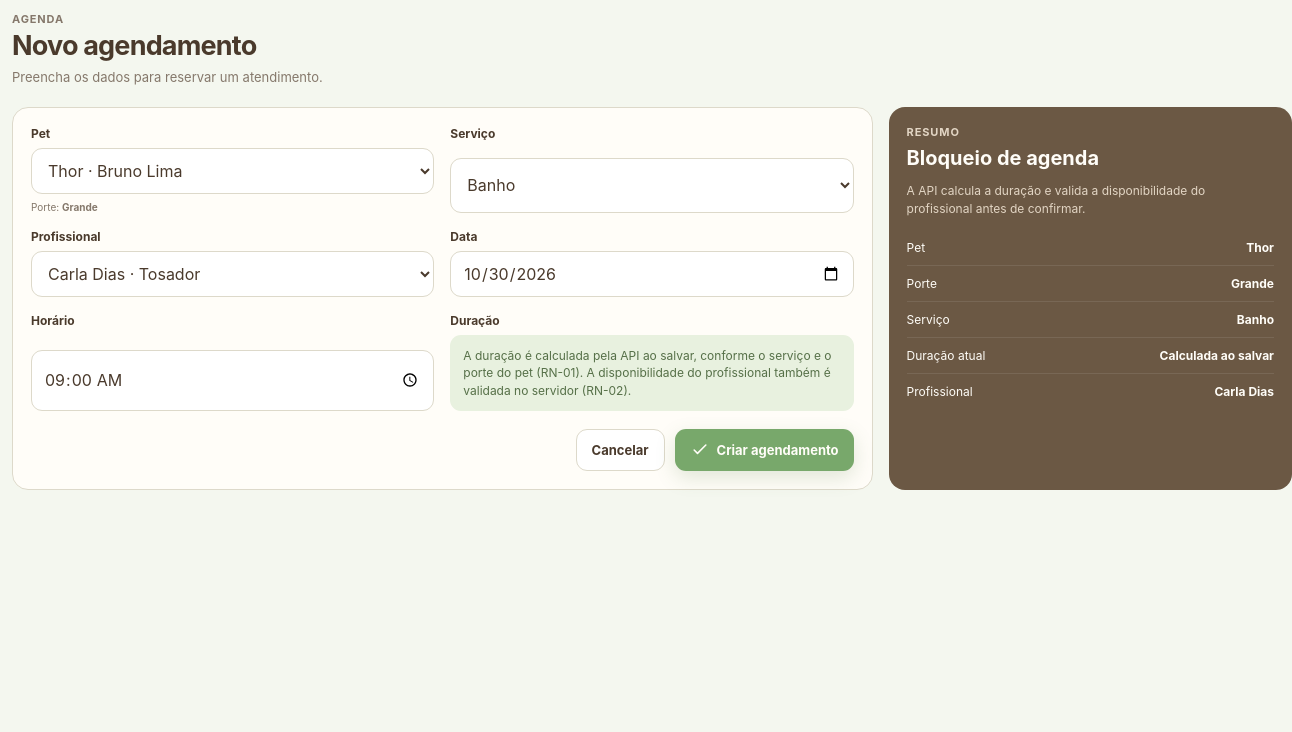
Test: UI | NovoAgendamentoForm — Duração (RN-01 no backend) › deve exibir a duração devolvida pela API após criar o agendamento
The width and height of the screenshot is (1292, 732).
Click the button "Criar agendamento" at [764, 450], box [674,429,854,471]
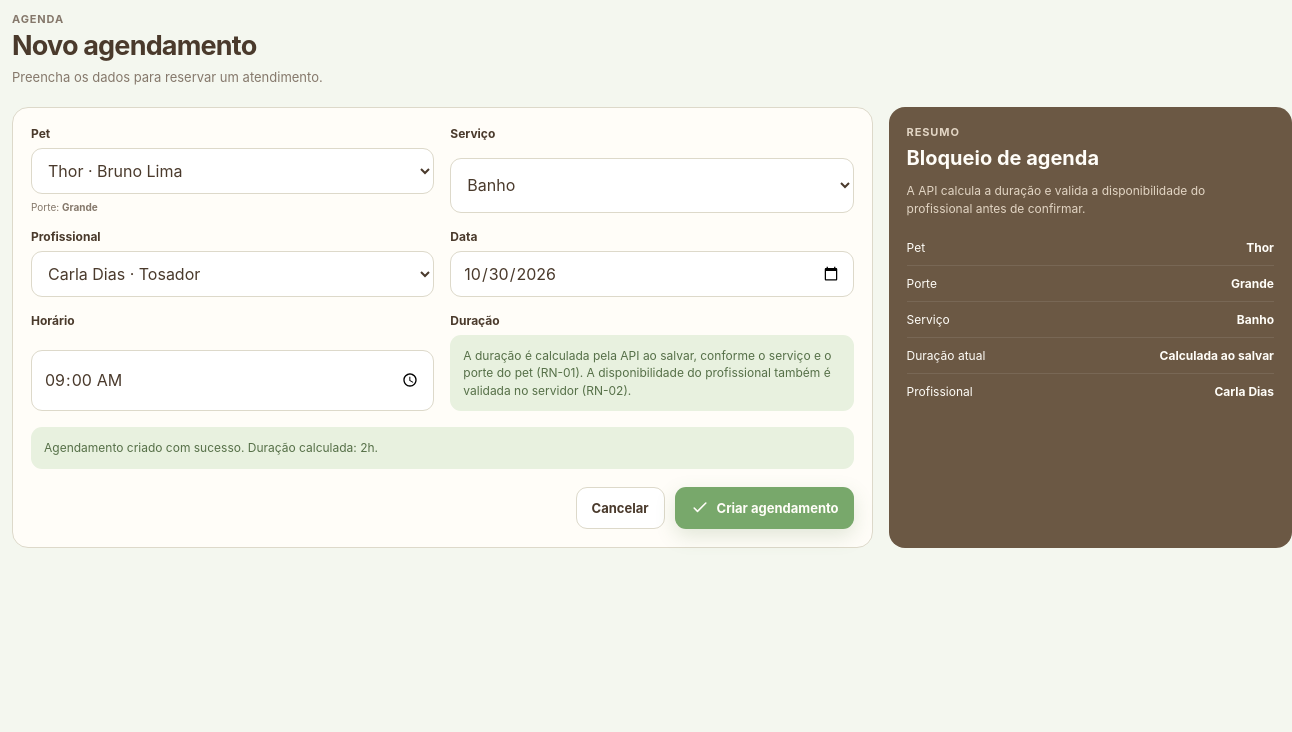
expect the text "Agendamento criado com sucesso. Duração calculada: 2h." is shown: met, box [31,427,854,469]
